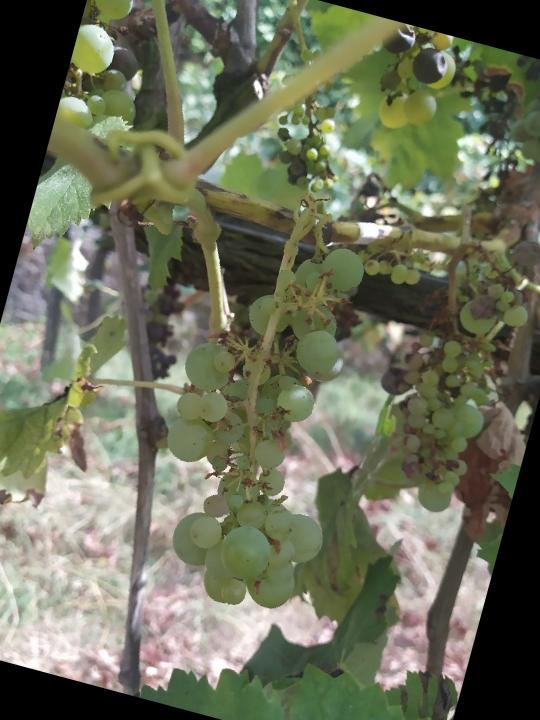grape: (124, 213, 402, 629)
